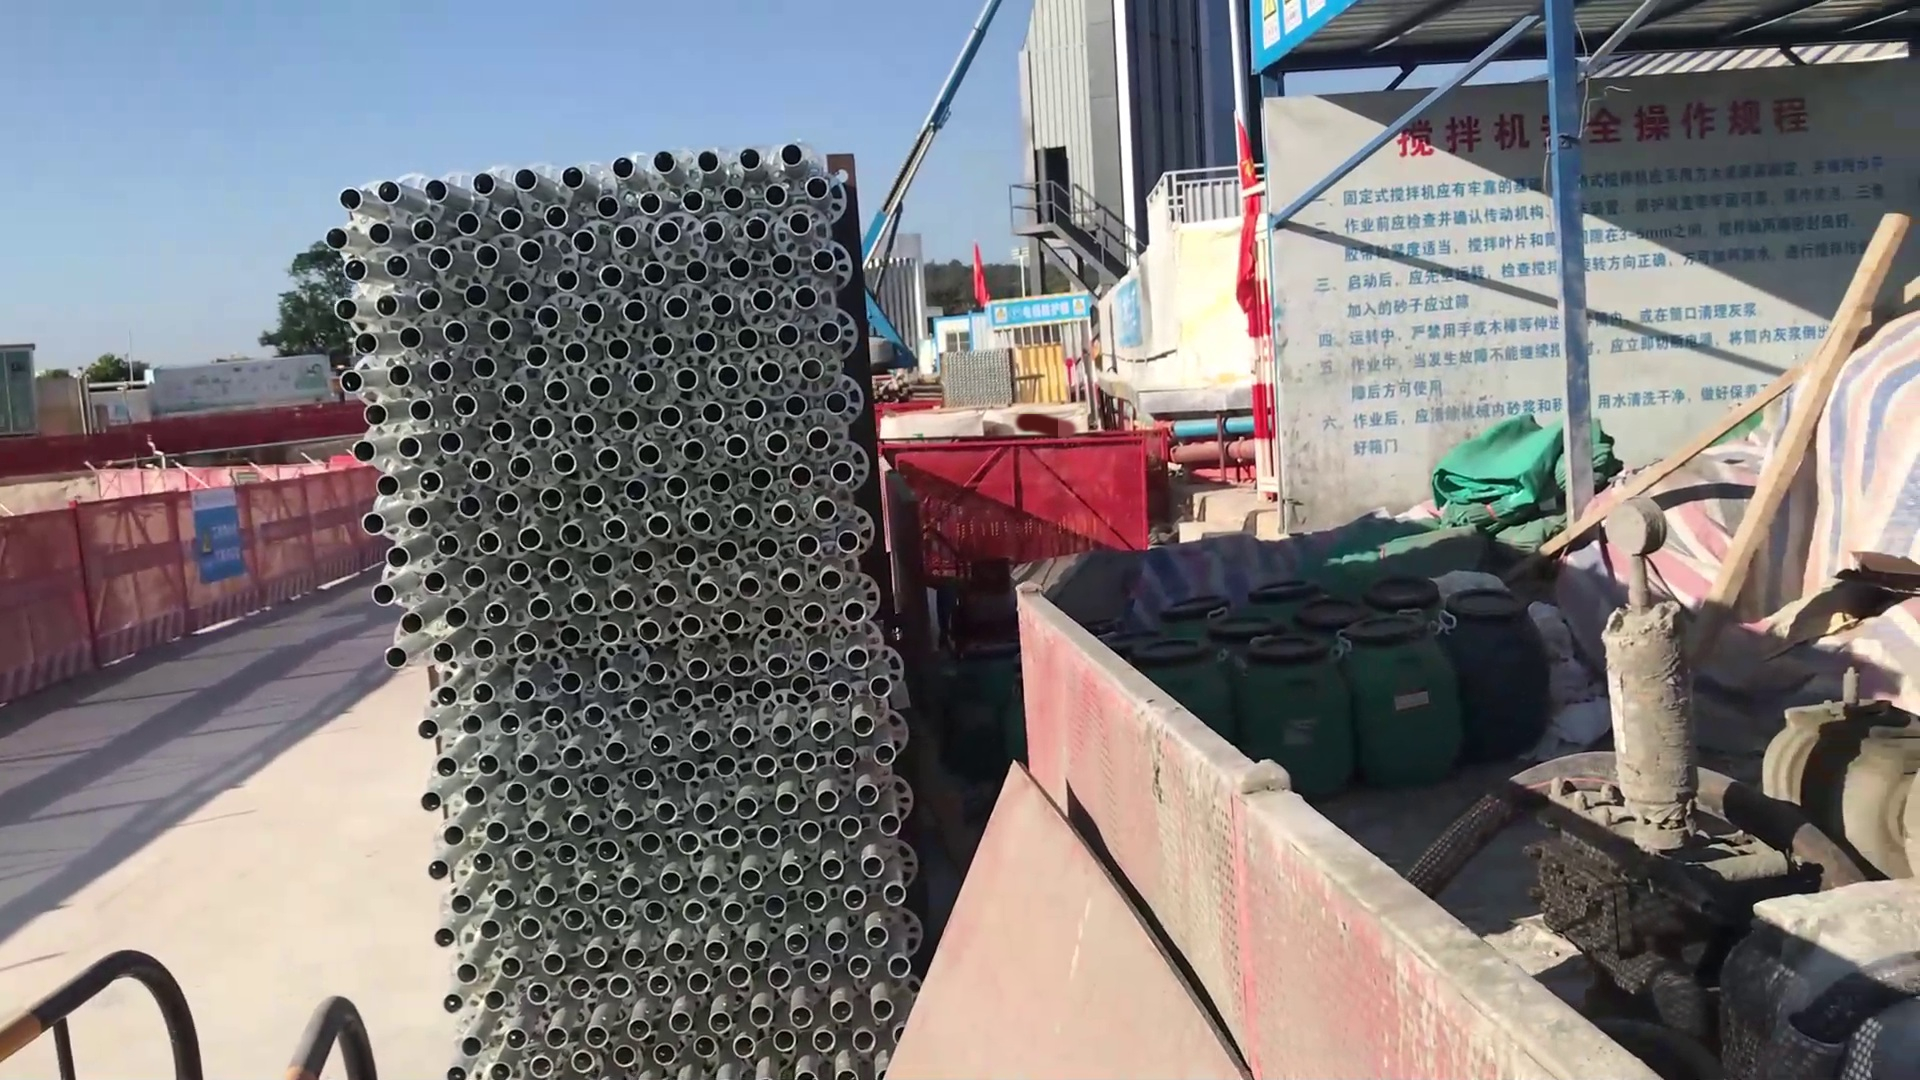fence: (1011, 587, 1658, 1080), (9, 476, 328, 702), (889, 433, 1150, 560)
scaffold: (334, 146, 916, 1080)
slogan: (193, 508, 248, 584)
